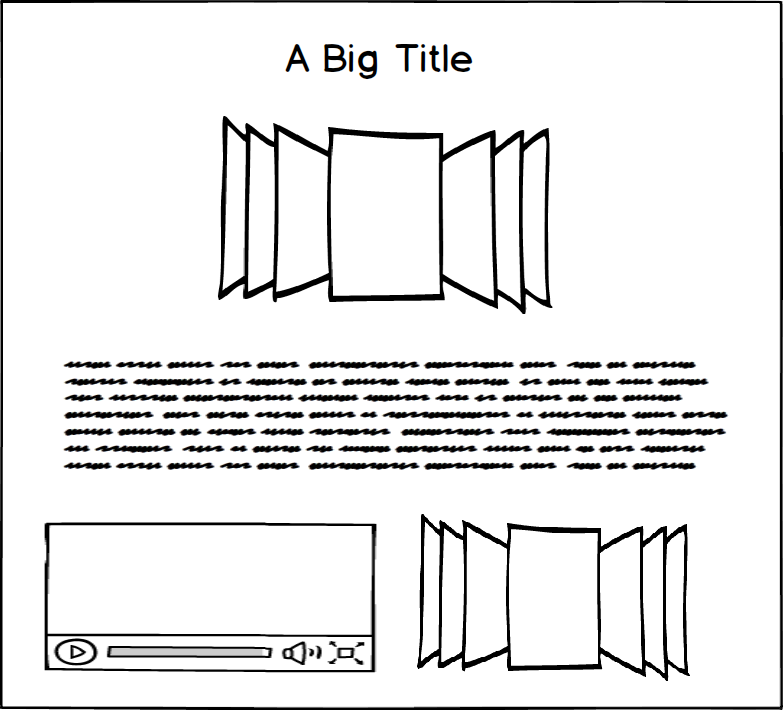h1: (273, 33, 477, 82)
p: (55, 353, 739, 476)
slideshow: (209, 114, 563, 317), (416, 504, 698, 687)
video: (34, 516, 383, 682)
